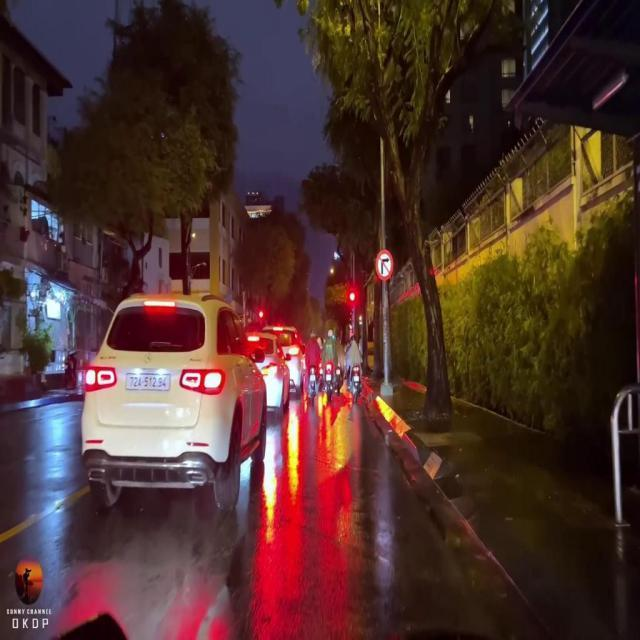123b-cam-re-phai: (375, 249, 394, 281)
